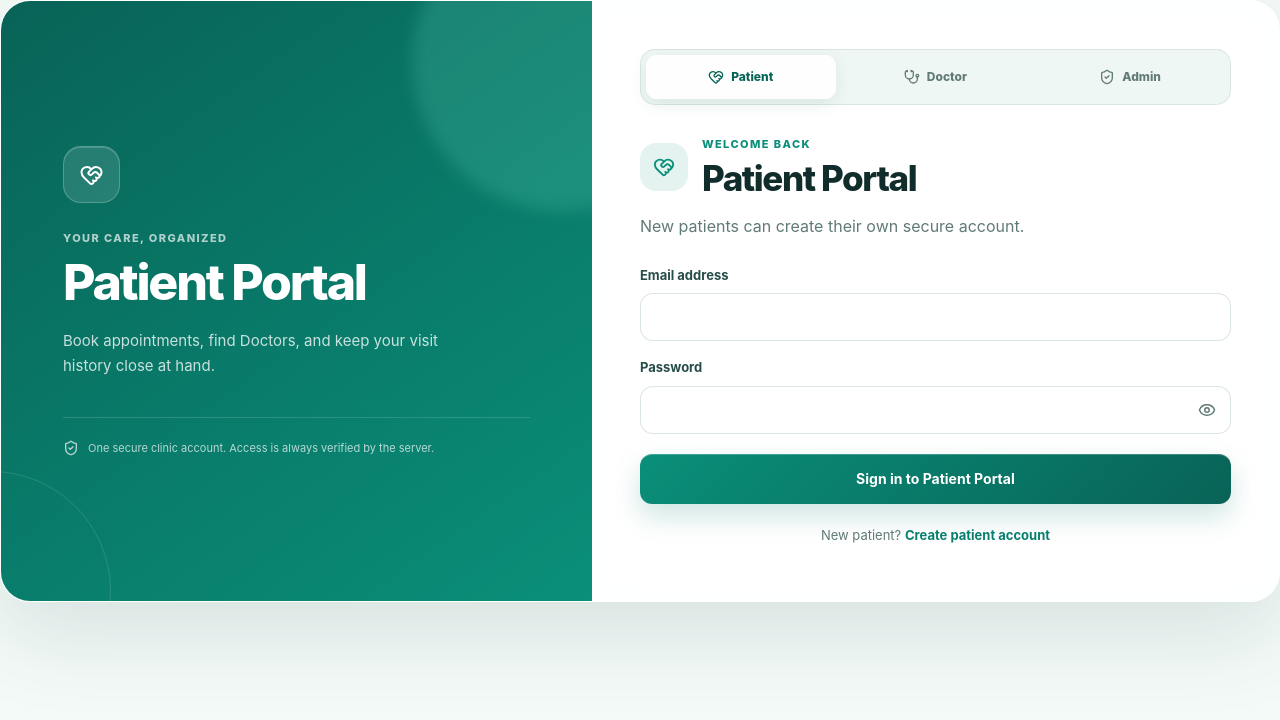
role-aware LoginPage › keeps entered credentials visible and displays a useful failed-sign-in error
The width and height of the screenshot is (1280, 720).
In the field labelled "Email address": {"x": 935, "y": 317} [640, 293, 1231, 341], type "invited@example.test"
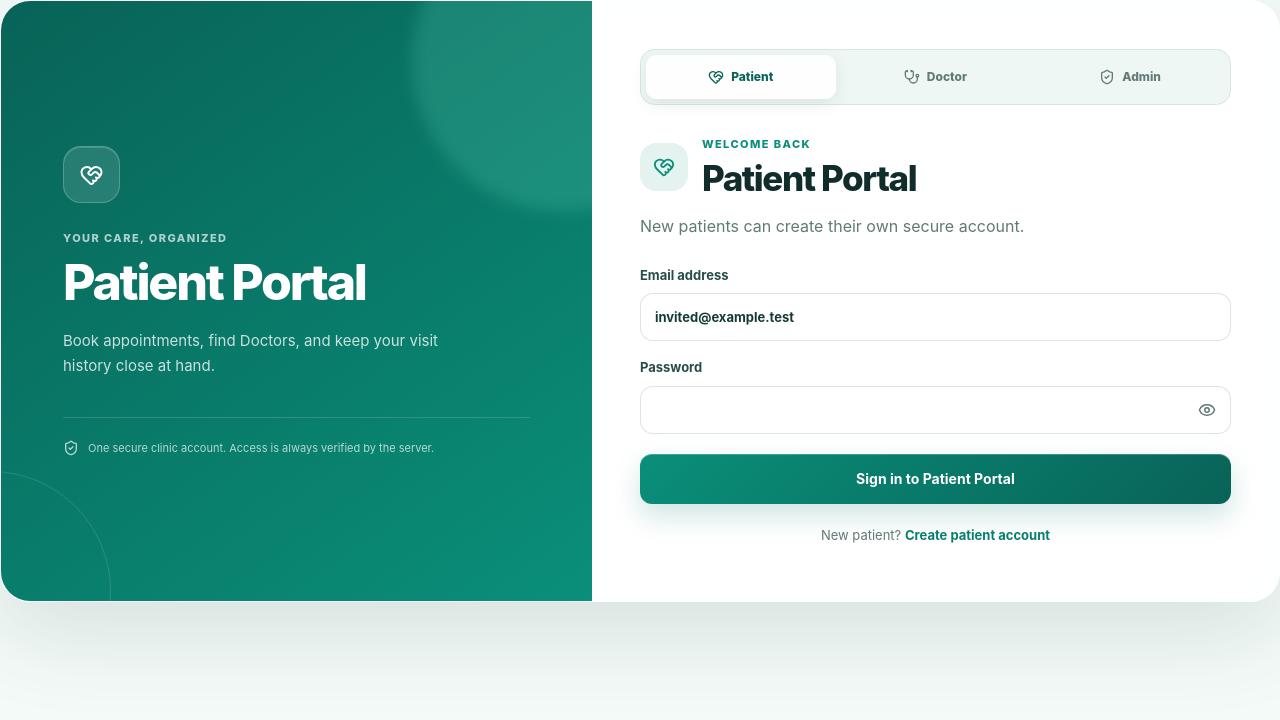
In the password field labelled "Password": {"x": 935, "y": 410} [640, 386, 1231, 434], type "Password123!"
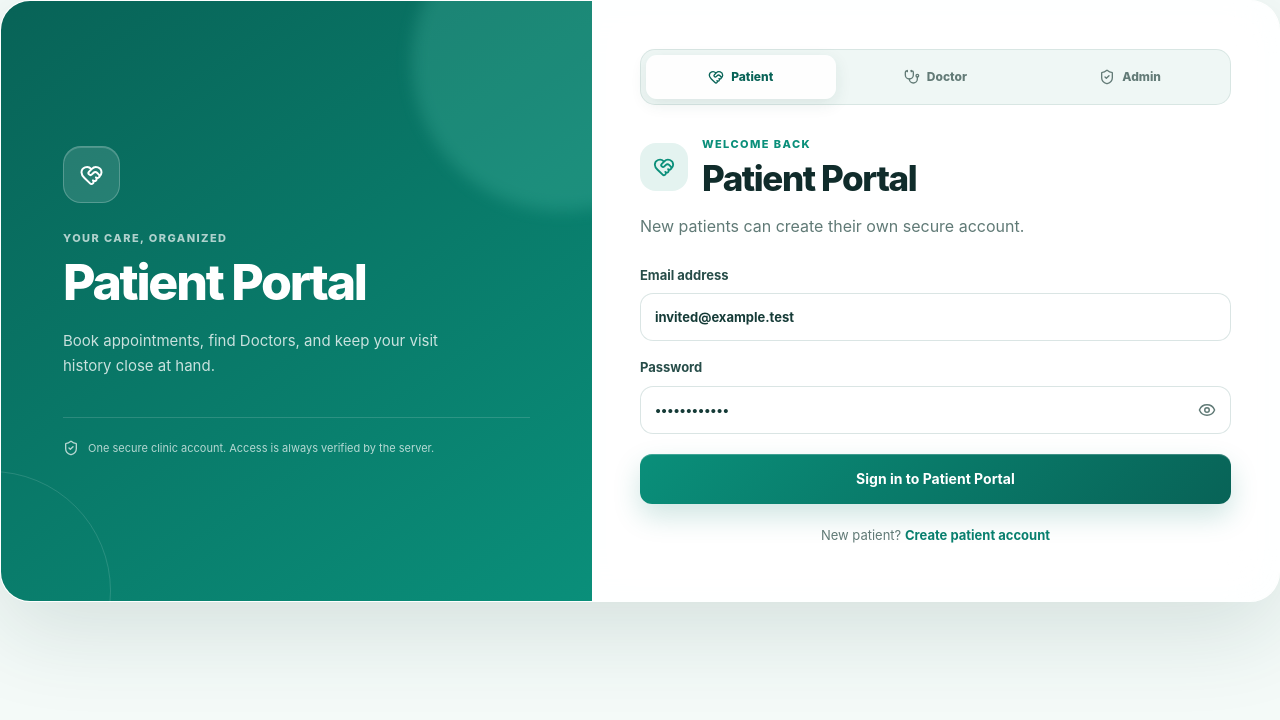
Click the button "Sign in to Patient Portal": {"x": 935, "y": 479} [640, 454, 1231, 504]
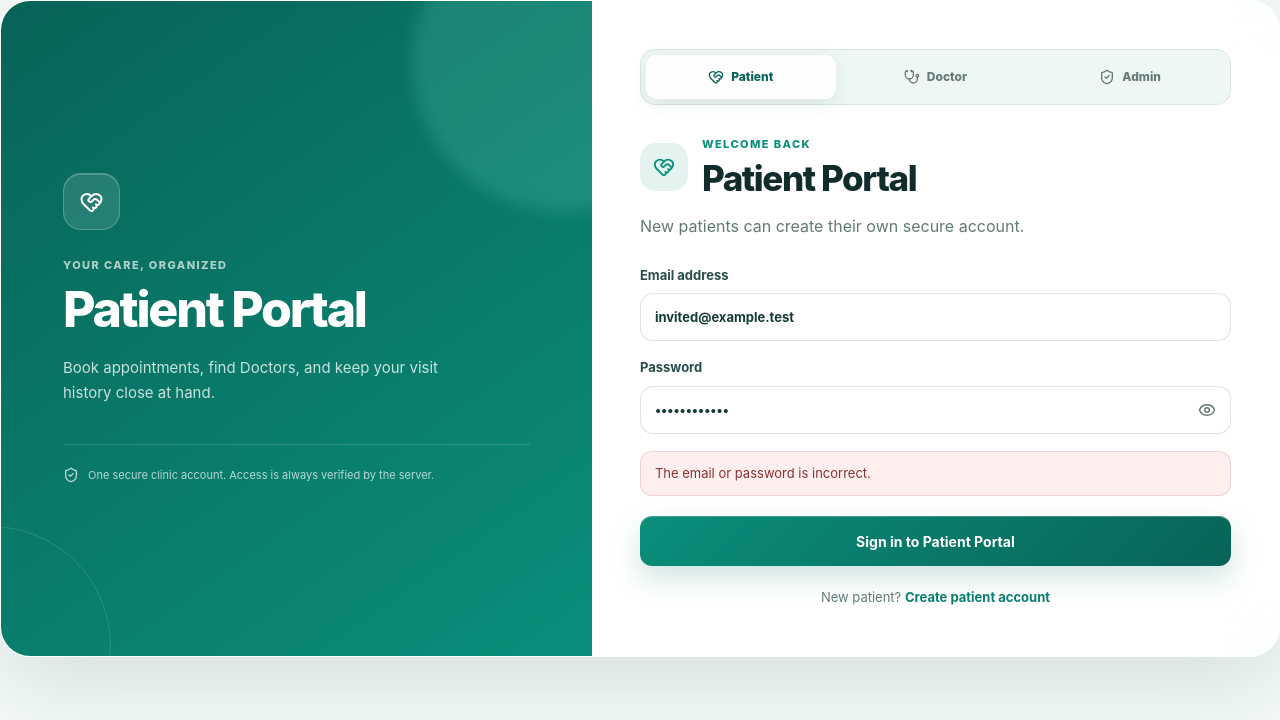
Check: the message reads "The email or password is incorrect.", box [655, 465, 871, 481]
